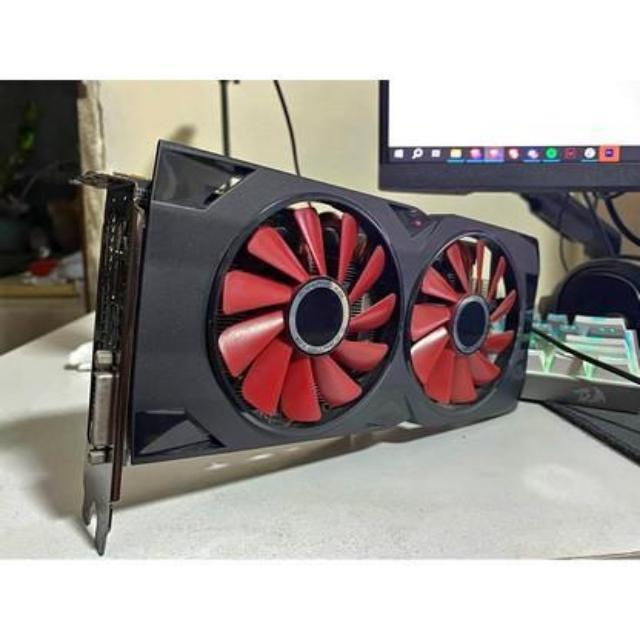GPU: (91, 138, 534, 478)
